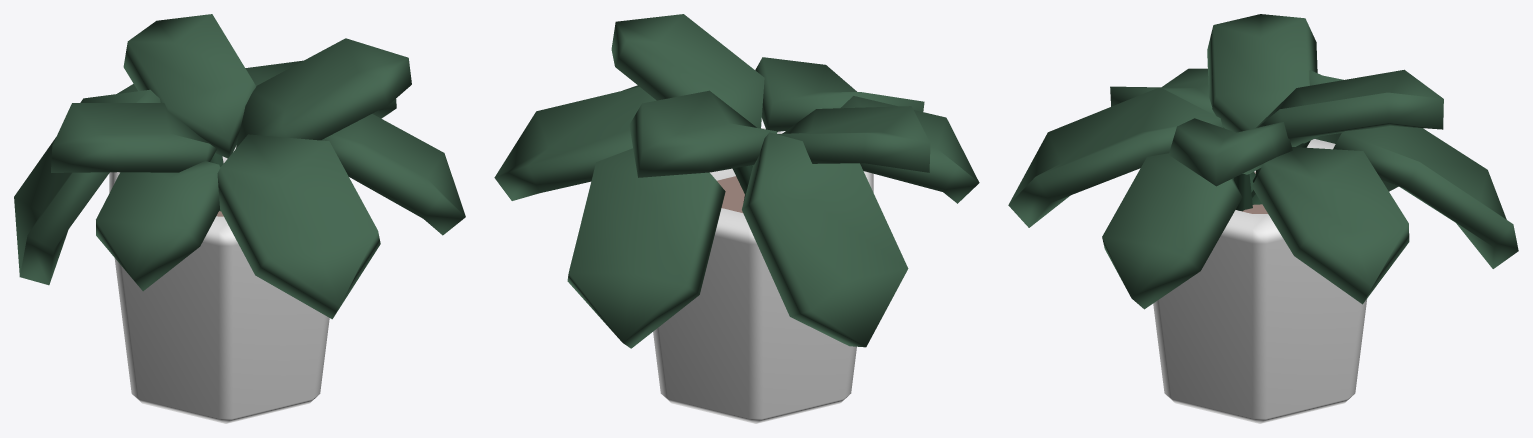
The model's file is flower_015.fbx.
3 renders of one model, left to right at view 1: azimuth 30°, elevation 25°; view 2: azimuth 150°, elevation 25°; view 3: azimuth 270°, elevation 25°, orthographic.
Visible parts, largest first — view 1: flower_015; view 2: flower_015; view 3: flower_015.
Boxes of the visible parts, x1=… form: flower_015: x1=14, y1=14, x2=465, y2=423; flower_015: x1=494, y1=14, x2=979, y2=423; flower_015: x1=1008, y1=14, x2=1518, y2=423.
Size of the model in its own units: 78.73 by 90.87 by 61.97.
